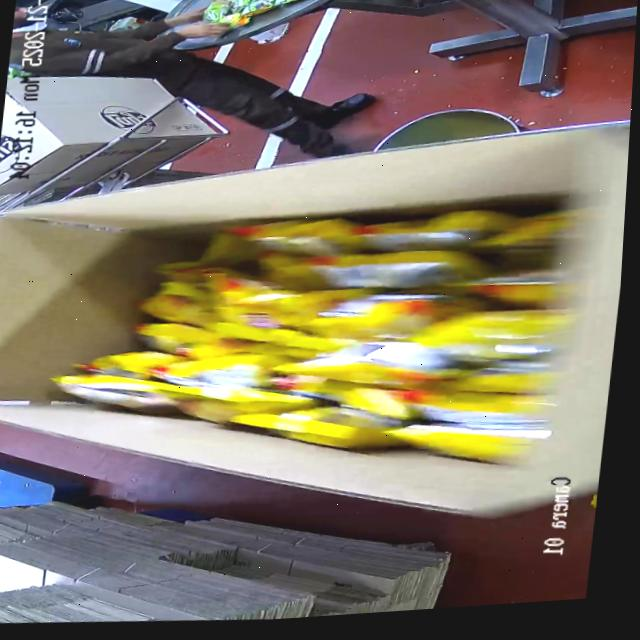SALTED: (78, 191, 569, 476)
